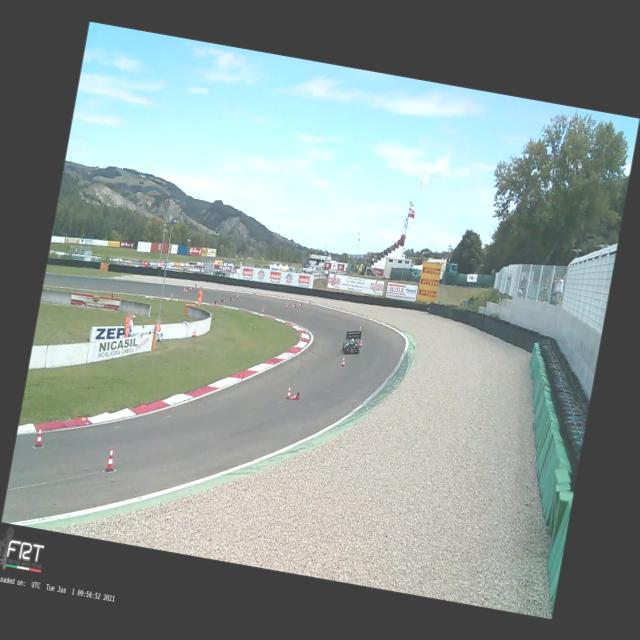large_orange_cone: (104, 446, 118, 473), (32, 426, 45, 448), (286, 384, 292, 399), (290, 391, 300, 400), (190, 327, 197, 337), (340, 356, 346, 366), (220, 298, 226, 304), (290, 302, 296, 308), (193, 328, 197, 337), (358, 340, 362, 348), (169, 290, 173, 298), (182, 286, 186, 294), (236, 292, 240, 300), (284, 302, 288, 310), (260, 307, 264, 313), (306, 298, 310, 304), (188, 286, 194, 290), (213, 300, 218, 304), (228, 296, 232, 301), (298, 302, 302, 307), (358, 326, 362, 331), (184, 288, 188, 292), (194, 284, 196, 288)
unknown_cone: (253, 289, 256, 295)
